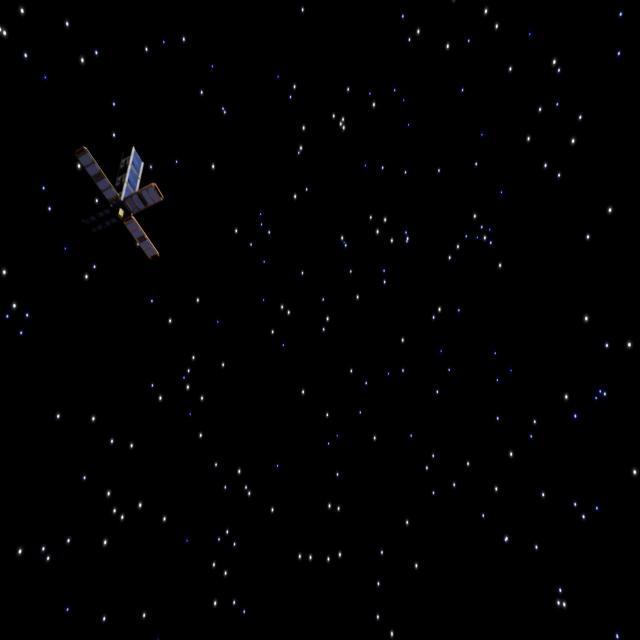medium_debris: (74, 136, 170, 257)
